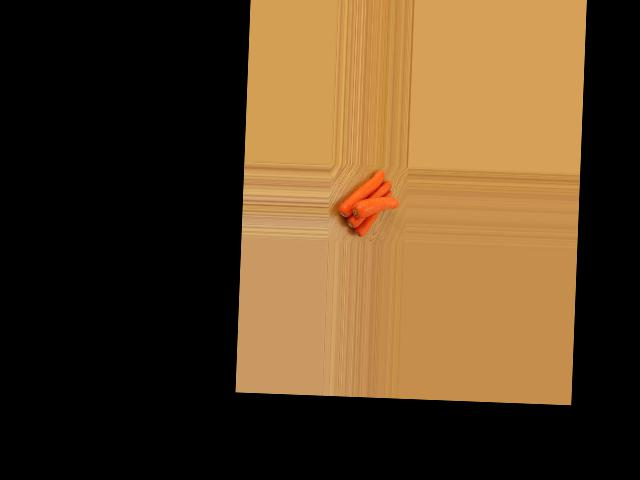carrot: (351, 201, 388, 242)
